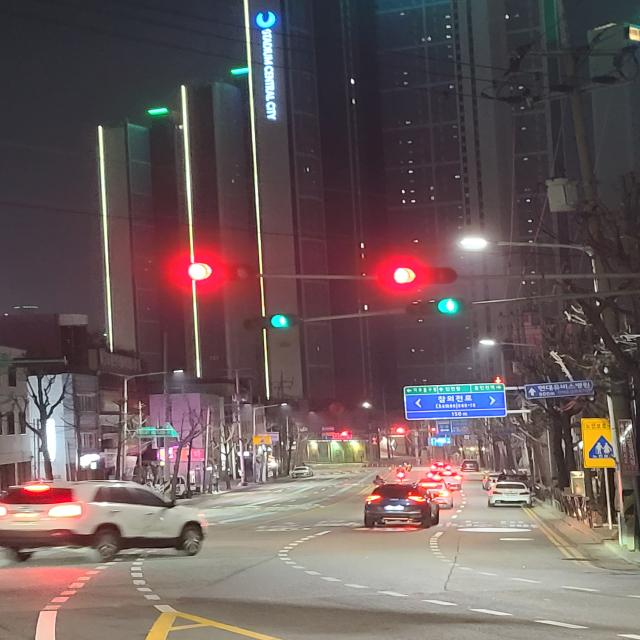Green Light: (436, 298, 460, 314), (268, 314, 292, 330)
Red Light: (183, 261, 214, 282), (390, 266, 420, 286)
